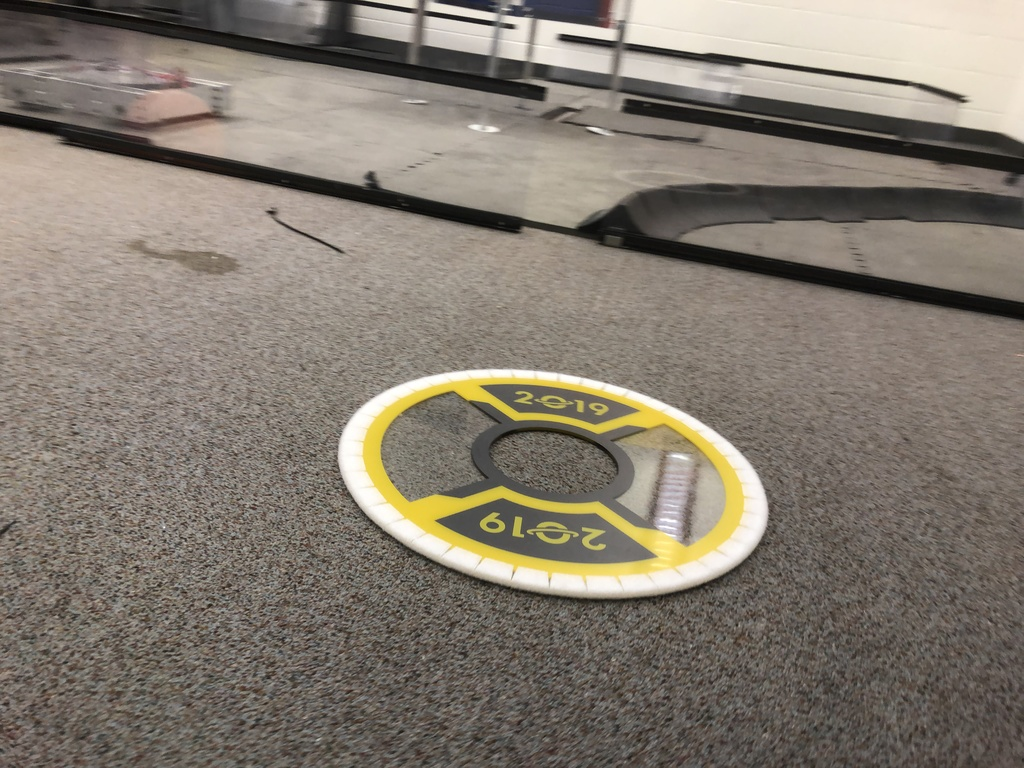hatch_panel: (320, 358, 793, 601)
